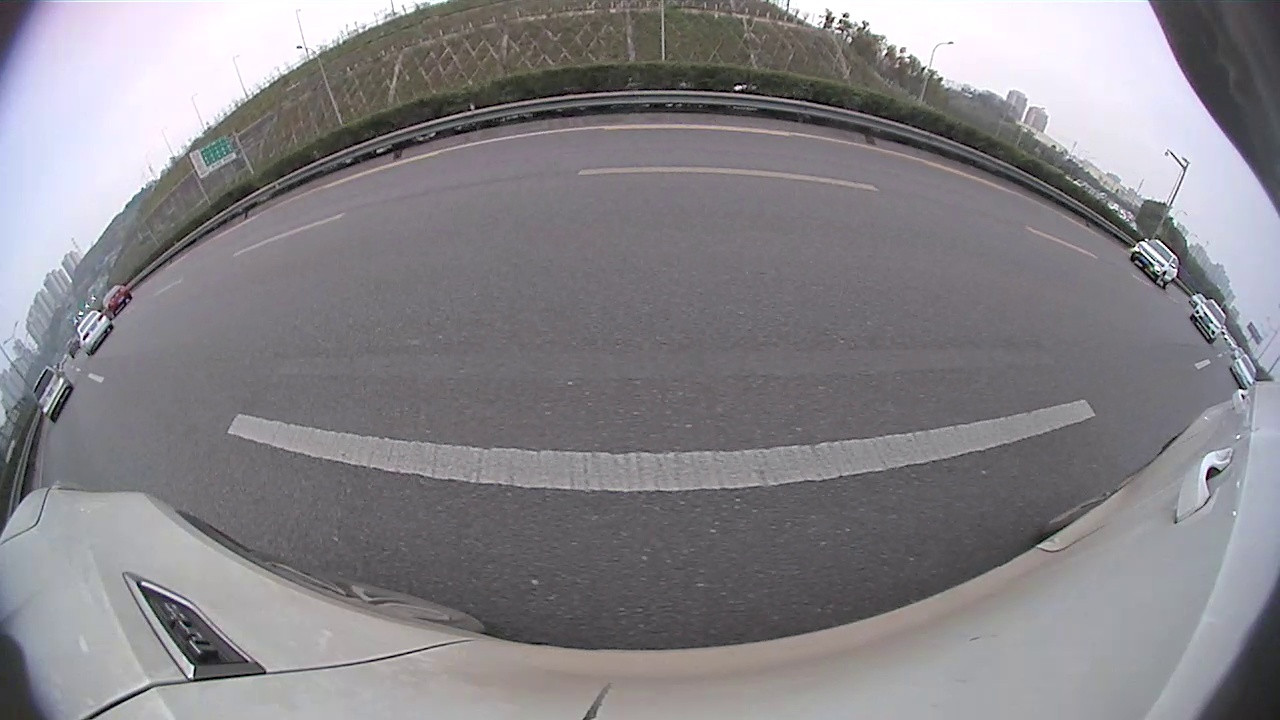bus: (771, 134, 826, 161)
car: (1, 173, 400, 520), (834, 151, 1129, 314), (579, 110, 781, 253), (442, 152, 556, 221), (781, 156, 827, 197), (549, 156, 587, 191)
front: (1146, 408, 1250, 518), (341, 223, 390, 294), (835, 194, 859, 233)
rear: (35, 392, 143, 520), (961, 231, 1017, 298), (521, 184, 534, 213)
